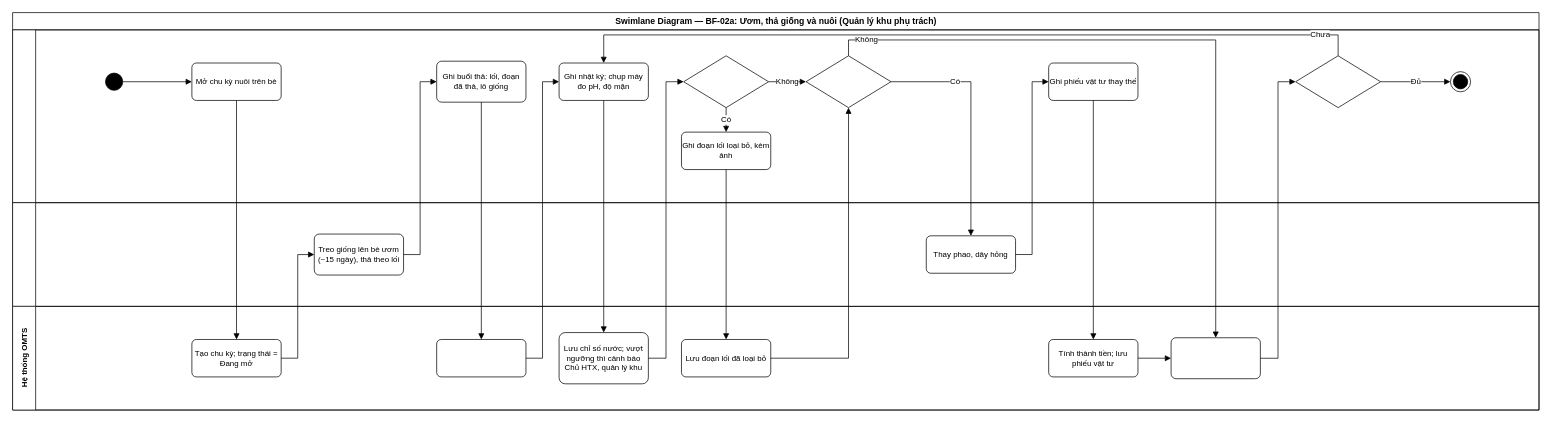
This 1552x423 diagram has some shape labels left out. Here are the shapes that lost their labels. From the top down, the box of each, then its label:
(683, 55, 769, 108): Hàu chết, bè hỏng?
(805, 55, 891, 108): Phao, dây hỏng?
(1295, 55, 1381, 108): Đủ 8–10 tháng?
(12, 29, 1539, 203): Quản lý khu
(12, 202, 1539, 306): Nhân viên
(436, 339, 526, 377): Lưu buổi thả; cập nhật sơ đồ bè
(1170, 337, 1260, 379): Tổng hợp tiến độ chu kỳ trên sơ đồ bè
